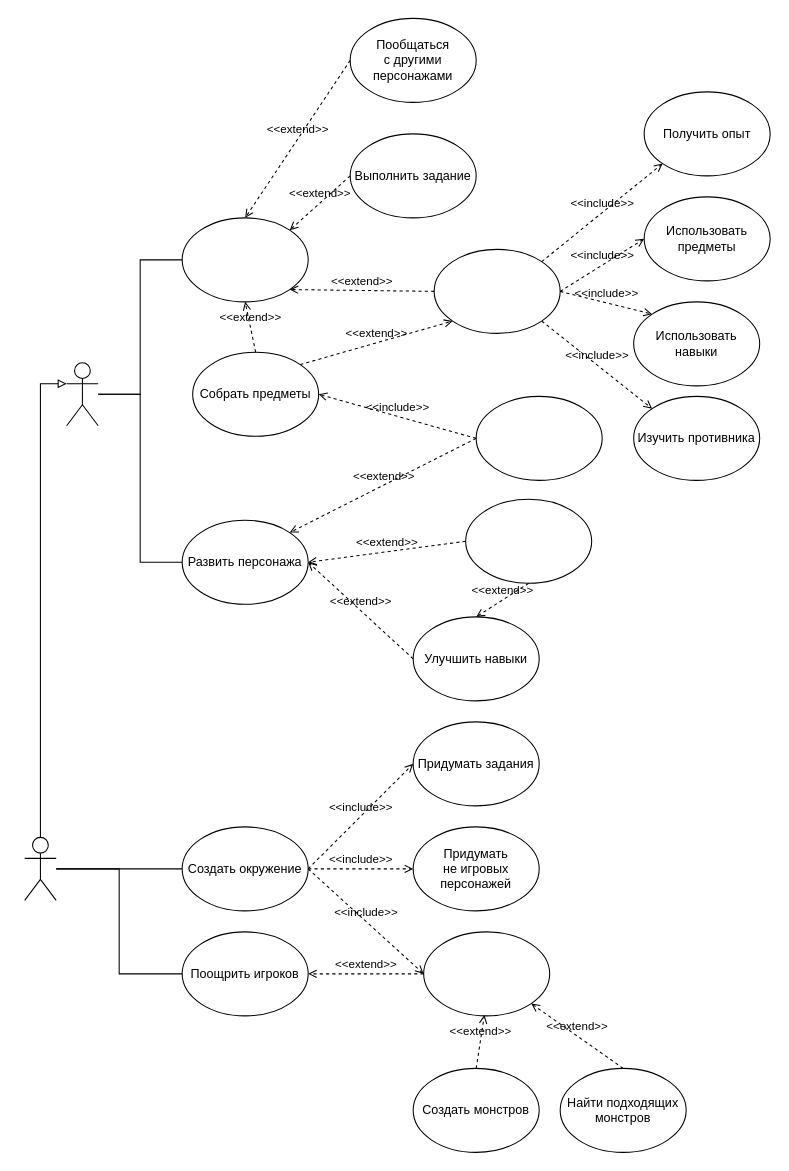
Image size: 789x1171. Some labels were removed from this diagram. Here are the shapes that lost their labels. From the top down, the box of each, then its label:
(181, 217, 308, 302): Описать действия персонажа
(433, 248, 560, 333): Сразиться
(66, 362, 98, 426): Игрок
(475, 395, 602, 480): Улучшить снаряжение
(465, 498, 592, 583): Улучшить характеристики
(24, 836, 56, 900): Мастер
(423, 931, 550, 1016): Придумать боевую ситуацию
